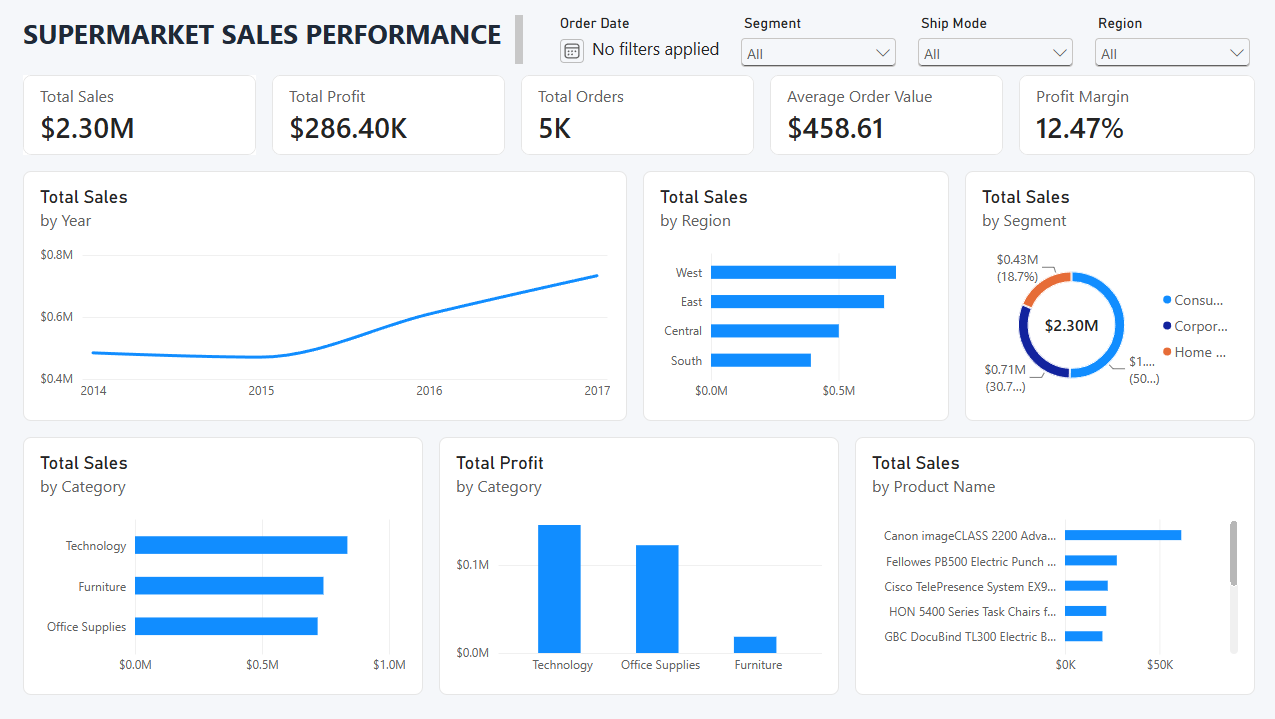

The page's visual inventory and layout, read from the dashboard file:
{"tool":"powerbi","page":{"name":"Page 1","canvas":[1280,720],"ordinal":0},"visuals":[{"type":"cardVisual","fields":{"Data":["Sample - Superstore.Total Sales"]},"box":[24,76,233,80],"z":0},{"type":"cardVisual","fields":{"Data":["Sample - Superstore.Total Profit"]},"box":[273,76,233,80],"z":1000},{"type":"cardVisual","fields":{"Data":["Sample - Superstore.Total Orders"]},"box":[522,76,233,80],"z":2000},{"type":"cardVisual","fields":{"Data":["Sample - Superstore.Average Order Value"]},"box":[771,76,233,80],"z":3000},{"type":"cardVisual","fields":{"Data":["Sample - Superstore.Profit Margin"]},"box":[1020,76,236,80],"z":4000},{"type":"clusteredBarChart","fields":{"Category":["Sample - Superstore.Category"],"Y":["Sample - Superstore.Total Sales"]},"box":[24,438,400,258],"z":5000},{"type":"clusteredColumnChart","fields":{"Category":["Sample - Superstore.Category"],"Y":["Sample - Superstore.Total Profit"]},"box":[440,438,400,258],"z":6000},{"type":"lineChart","fields":{"Category":["Sample - Superstore.Order Date.Variation.Date Hierarchy.Year","Sample - Superstore.Order Date.Variation.Date Hierarchy.Quarter","Sample - Superstore.Order Date.Variation.Date Hierarchy.Month","Sample - Superstore.Order Date.Variation.Date Hierarchy.Day"],"Y":["Sample - Superstore.Total Sales"]},"box":[24,172,604,250],"z":7000},{"type":"donutChart","fields":{"Category":["Sample - Superstore.Segment"],"Y":["Sample - Superstore.Total Sales"]},"box":[966,172,290,250],"z":8000},{"type":"clusteredBarChart","fields":{"Category":["Sample - Superstore.Region"],"Y":["Sample - Superstore.Total Sales"]},"box":[644,172,306,250],"z":9000},{"type":"clusteredBarChart","fields":{"Category":["Sample - Superstore.Product Name"],"Y":["Sample - Superstore.Total Sales"]},"box":[856,438,400,258],"z":10000},{"type":"slicer","fields":{"Values":["Sample - Superstore.Region"]},"box":[1091,16,165,52],"z":11000},{"type":"slicer","fields":{"Values":["Sample - Superstore.Order Date"]},"box":[552.7,16.4,174.2,53.3],"z":12000},{"type":"slicer","fields":{"Values":["Sample - Superstore.Segment"]},"box":[737,16,165,52],"z":13000},{"type":"slicer","fields":{"Values":["Sample - Superstore.Ship Mode"]},"box":[914,16,165,52],"z":14000},{"type":"textbox","box":[24.4,16,500,52],"z":15000}]}

Visuals, with their boxes in screenshot pixels (x1, y1, x2, y2), scaled from the page's 1280x720 canvas onto the 1275x719 screenshot:
cardVisual - Sample - Superstore.Total Sales: [24, 76, 256, 156]
cardVisual - Sample - Superstore.Total Profit: [272, 76, 504, 156]
cardVisual - Sample - Superstore.Total Orders: [520, 76, 752, 156]
cardVisual - Sample - Superstore.Average Order Value: [768, 76, 1000, 156]
cardVisual - Sample - Superstore.Profit Margin: [1016, 76, 1251, 156]
clusteredBarChart - Sample - Superstore.Category x Sample - Superstore.Total Sales: [24, 437, 422, 695]
clusteredColumnChart - Sample - Superstore.Category x Sample - Superstore.Total Profit: [438, 437, 837, 695]
lineChart - Sample - Superstore.Order Date.Variation.Date Hierarchy.Year x Sample - Superstore.Order Date.Variation.Date Hierarchy.Quarter: [24, 172, 626, 421]
donutChart - Sample - Superstore.Segment x Sample - Superstore.Total Sales: [962, 172, 1251, 421]
clusteredBarChart - Sample - Superstore.Region x Sample - Superstore.Total Sales: [641, 172, 946, 421]
clusteredBarChart - Sample - Superstore.Product Name x Sample - Superstore.Total Sales: [853, 437, 1251, 695]
slicer - Sample - Superstore.Region: [1087, 16, 1251, 68]
slicer - Sample - Superstore.Order Date: [551, 16, 724, 70]
slicer - Sample - Superstore.Segment: [734, 16, 898, 68]
slicer - Sample - Superstore.Ship Mode: [910, 16, 1075, 68]
textbox: [24, 16, 522, 68]
